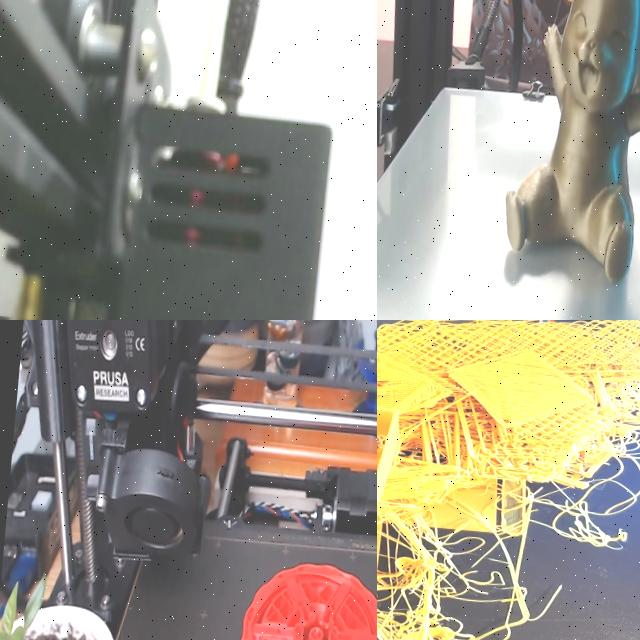spaghetti: (377, 479, 640, 640), (496, 320, 640, 562)
